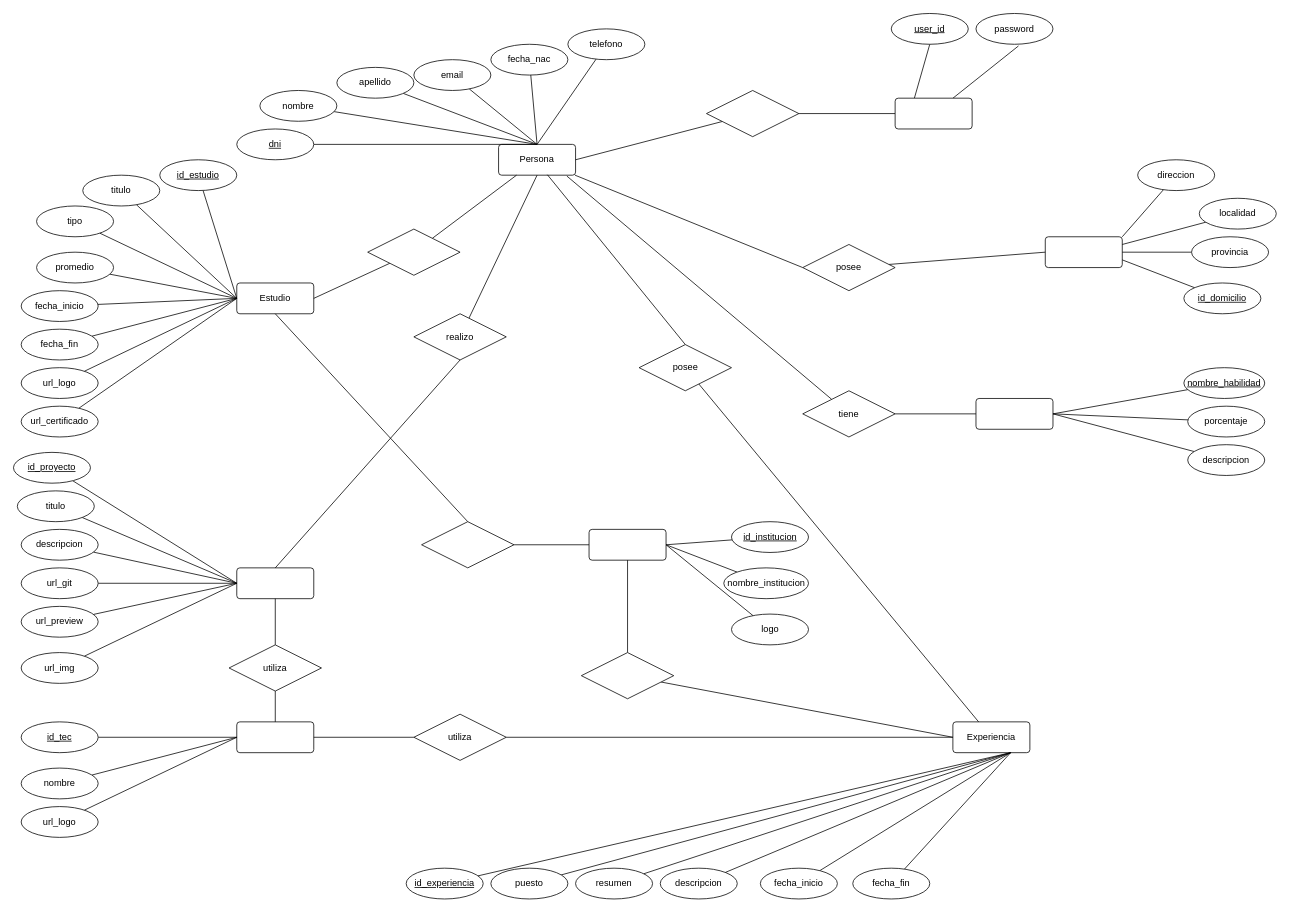
This 1290x912 diagram has some shape labels left out. The shapes that lost their labels are listed below. From the top down, each one's centre as x and y in pixels, then its label:
pixel 752 113: administra
pixel 933 113: Usuario
pixel 413 251: cursa
pixel 1083 252: Domicilio
pixel 1014 413: Habilidades
pixel 467 544: cursado_en
pixel 627 544: Institucion
pixel 275 583: Proyectos
pixel 627 675: obtenida_en
pixel 275 737: Tecnologia
